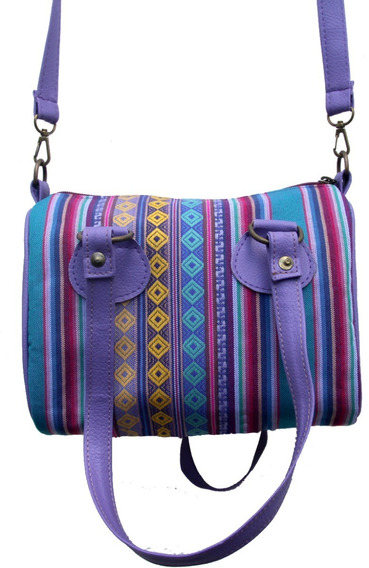cartera: (22, 1, 369, 434)
